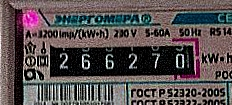0: (173, 49, 184, 69)
2: (56, 49, 70, 70), (126, 50, 138, 70)
6: (79, 51, 91, 71), (103, 50, 115, 69)
7: (149, 50, 161, 69)
screen: (36, 30, 210, 88)
